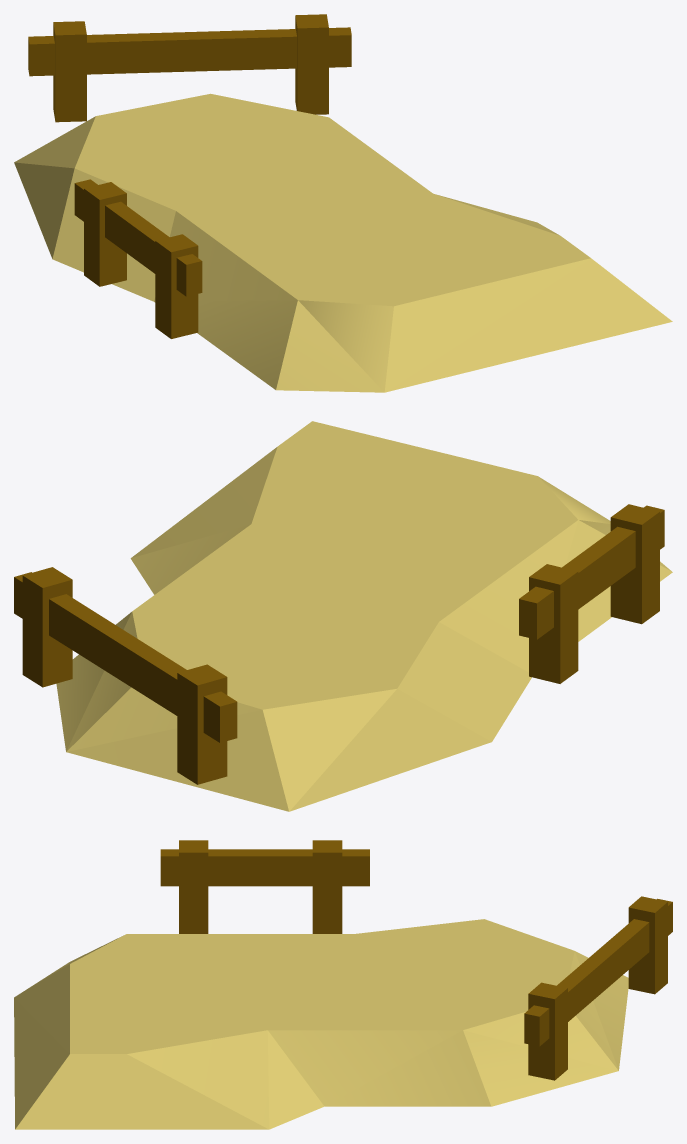
File: DeadEnd_2.fbx
3 views of the same model, one above another, from view 1: azimuth 30°, elevation 25°; view 2: azimuth 150°, elevation 25°; view 3: azimuth 270°, elevation 25° (orthographic). The views are drawn at different scales.
Parts seen in each view (by area): view 1: Normal - Dead End.002; view 2: Normal - Dead End.002; view 3: Normal - Dead End.002.
Part boxes in pixels (x1,y1,x2,y2): Normal - Dead End.002: [14, 14, 672, 392]; Normal - Dead End.002: [14, 421, 672, 811]; Normal - Dead End.002: [14, 840, 672, 1129].
Bounding box in the file's own units: 78.88 × 20.38 × 116.
